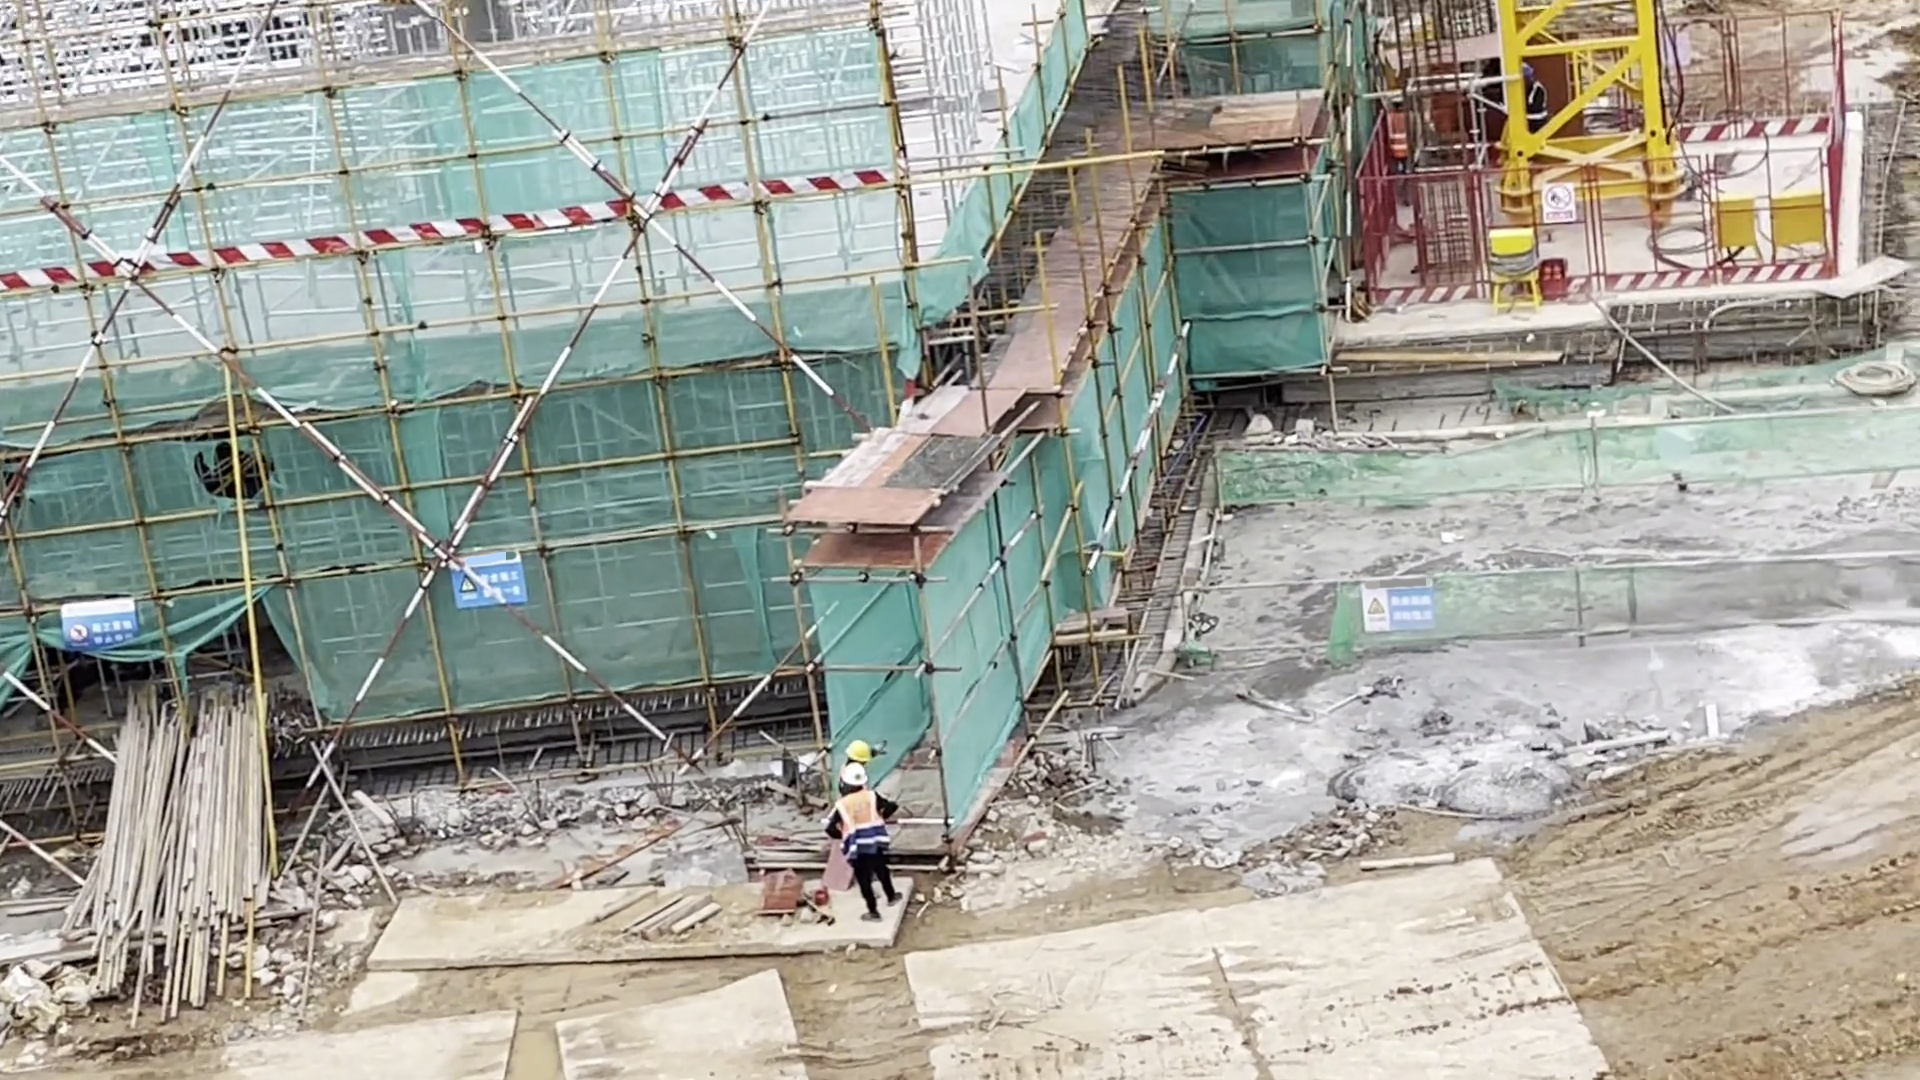ebox: (1487, 226, 1546, 314), (1771, 187, 1824, 257), (1715, 197, 1759, 248)
helmet: (1519, 61, 1538, 73)
person: (825, 741, 901, 921), (1520, 61, 1551, 134)
vest: (835, 792, 878, 863), (839, 760, 875, 791), (1527, 83, 1548, 121), (847, 741, 873, 761)
wood: (106, 697, 278, 991)
